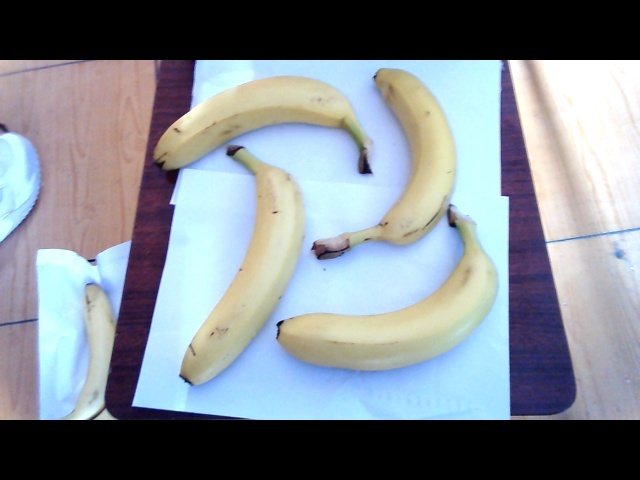banana: (274, 250, 508, 372), (178, 159, 296, 385), (154, 71, 375, 172), (366, 70, 456, 251)
